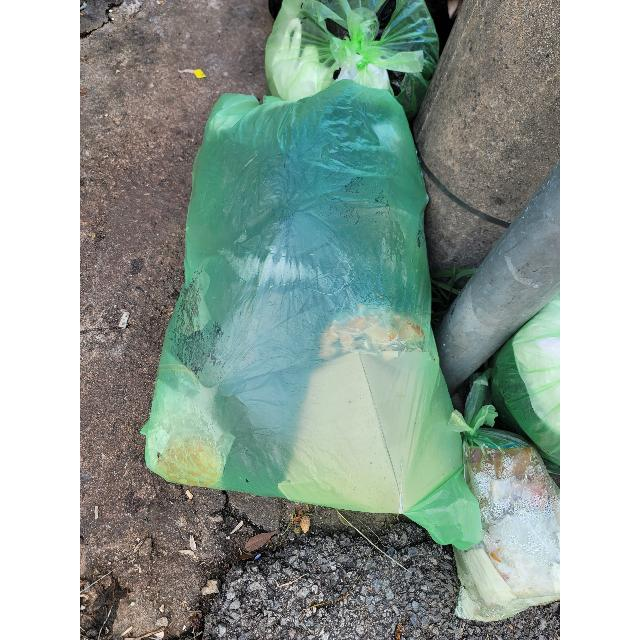general_trashbag: (141, 80, 480, 548), (450, 371, 560, 621), (265, 0, 438, 118), (490, 294, 560, 469)
